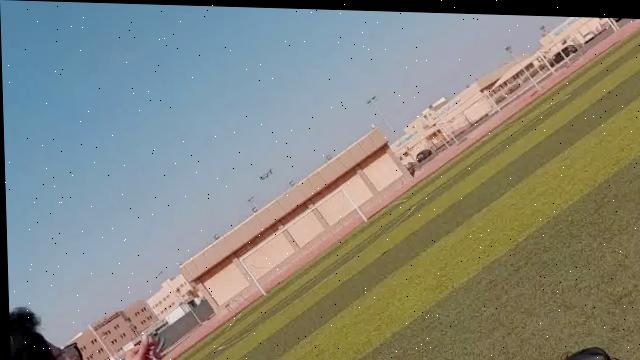drone: (253, 161, 275, 179)
